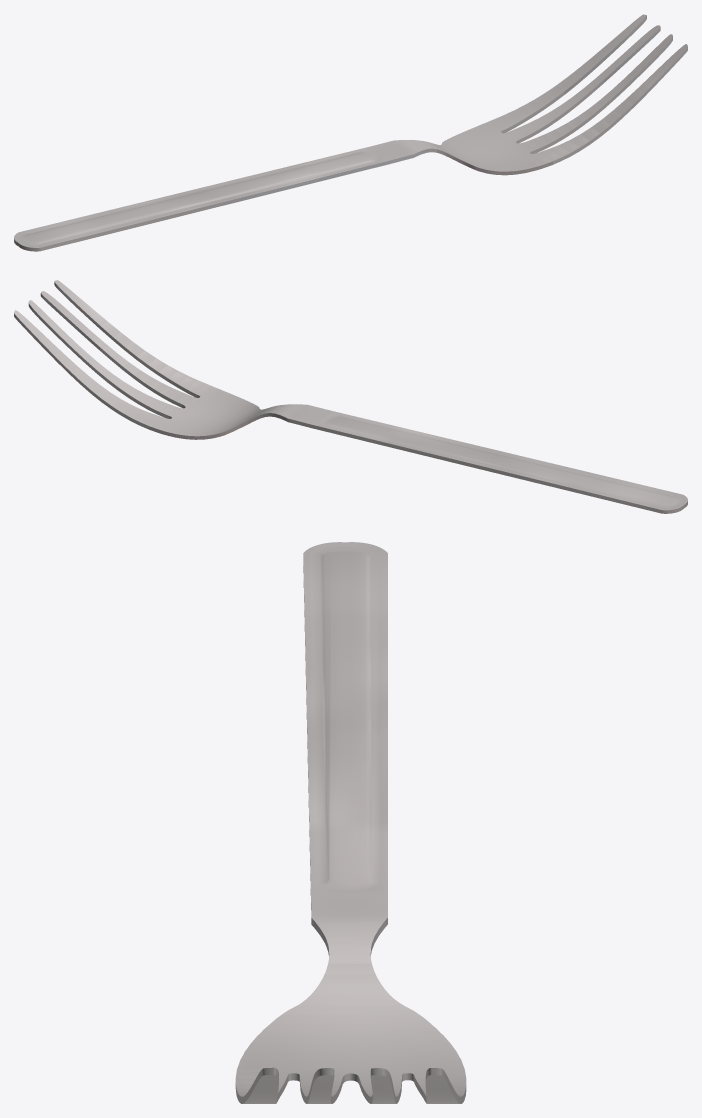
The model's file is fork.dae.
3 views of the same model, one above another, from view 1: azimuth 30°, elevation 25°; view 2: azimuth 150°, elevation 25°; view 3: azimuth 270°, elevation 25° (orthographic). The views are drawn at different scales.
Visible parts, largest first — view 1: group_0 (×2); view 2: group_0 (×2); view 3: group_0 (×2).
Boxes of the visible parts, bbox=[...] form: group_0 (×2): bbox=[14, 14, 687, 251]; group_0 (×2): bbox=[14, 280, 687, 513]; group_0 (×2): bbox=[235, 542, 466, 1103].
Bounding box in the file's own units: 7.48 × 1.16 × 0.9024.
1 material, 1 textured.
